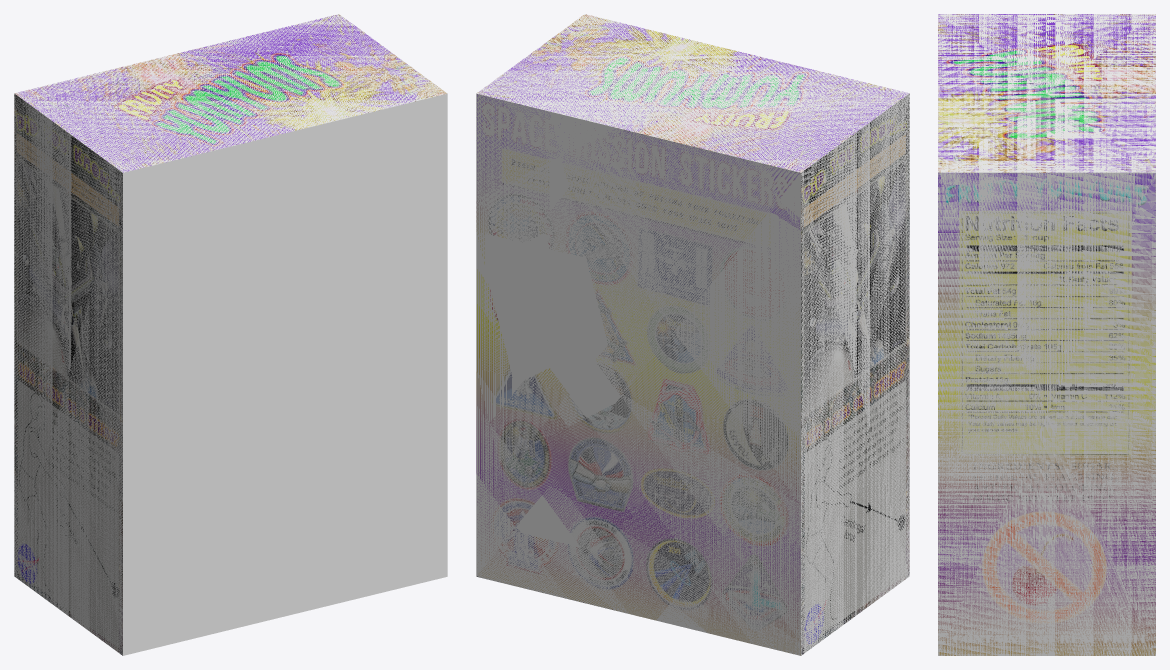
3 views of the same model, side by side, from view 1: azimuth 30°, elevation 25°; view 2: azimuth 150°, elevation 25°; view 3: azimuth 270°, elevation 25° (orthographic).
Visible parts, largest first — view 1: SketchUp.001_ID18.002, image_3_ID64, image_4_ID78.001, image_0_ID27; view 2: SketchUp.001_ID18.002, image_2_ID50, image_3_ID64, image_4_ID78.001; view 3: SketchUp.001_ID18.002, image_1_ID36.001, image_4_ID78.001.
Boxes of the visible parts, x1,y1,x2,y2 form: SketchUp.001_ID18.002: [14, 14, 447, 655]; image_3_ID64: [14, 95, 122, 655]; image_4_ID78.001: [15, 14, 446, 172]; image_0_ID27: [123, 126, 447, 654]; SketchUp.001_ID18.002: [476, 14, 909, 655]; image_2_ID50: [476, 94, 800, 654]; image_3_ID64: [801, 94, 909, 655]; image_4_ID78.001: [477, 14, 908, 172]; SketchUp.001_ID18.002: [938, 14, 1155, 655]; image_1_ID36.001: [938, 172, 1155, 655]; image_4_ID78.001: [938, 14, 1155, 172].
Size of the model in its own units: 0.3647 by 0.5184 by 0.2116.
6 materials, 4 textured.
